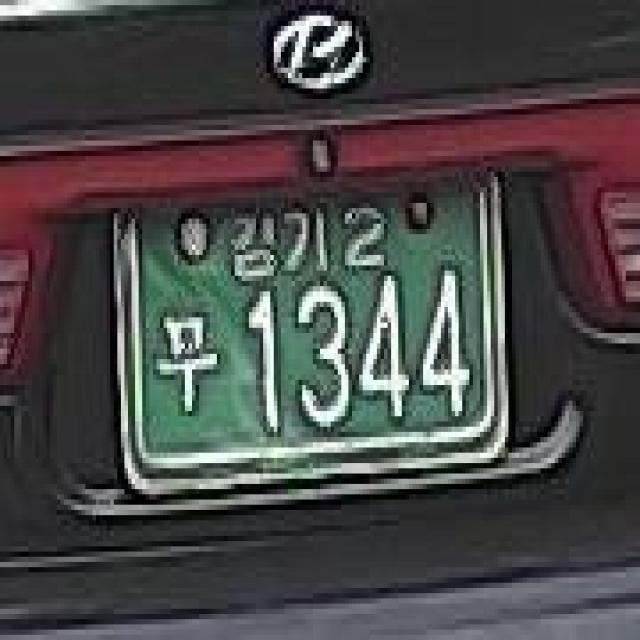illegal_plate: (91, 148, 532, 516)
